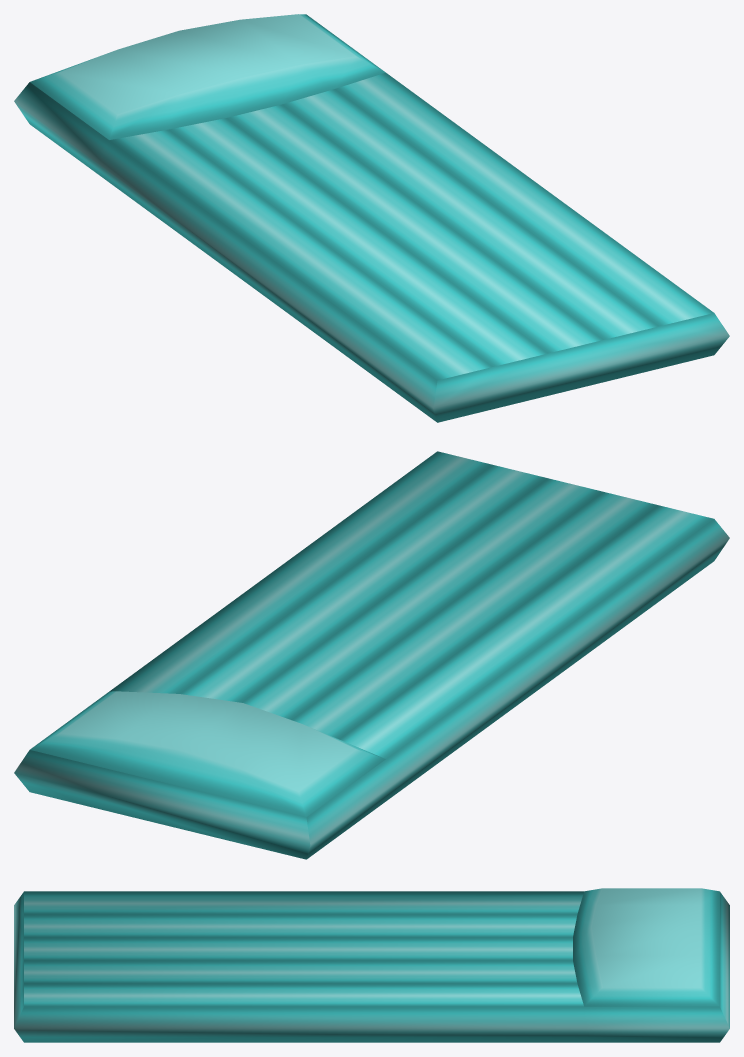
File: Inflatable_Bed_05.FBX
3 renders of one model, top to bottom at view 1: azimuth 30°, elevation 25°; view 2: azimuth 150°, elevation 25°; view 3: azimuth 270°, elevation 25°, orthographic. The views are drawn at different scales.
Parts seen in each view (by area): view 1: Inflatable_Bed_05; view 2: Inflatable_Bed_05; view 3: Inflatable_Bed_05.
Part boxes in pixels (x1,y1,x2,y2): Inflatable_Bed_05: (14, 14, 729, 422); Inflatable_Bed_05: (14, 451, 729, 859); Inflatable_Bed_05: (14, 888, 729, 1042).
Size of the model in its own units: 0.8171 by 2 by 0.1789.
